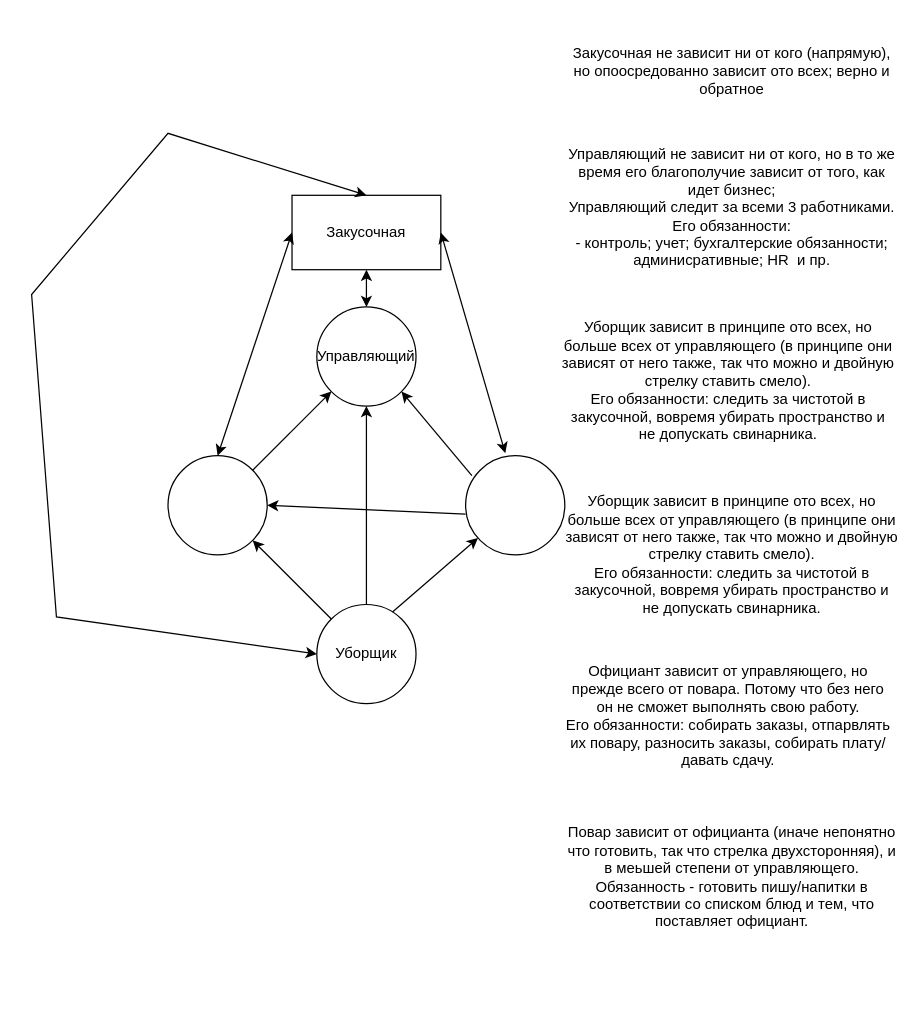
Some shapes in this 921 by 1009 pixel diagram are drawn without their labels. Here are the shapes that lost their labels. From the top down, the centre of each, then its label:
the point at 217,504: Повар
the point at 514,504: Официант
